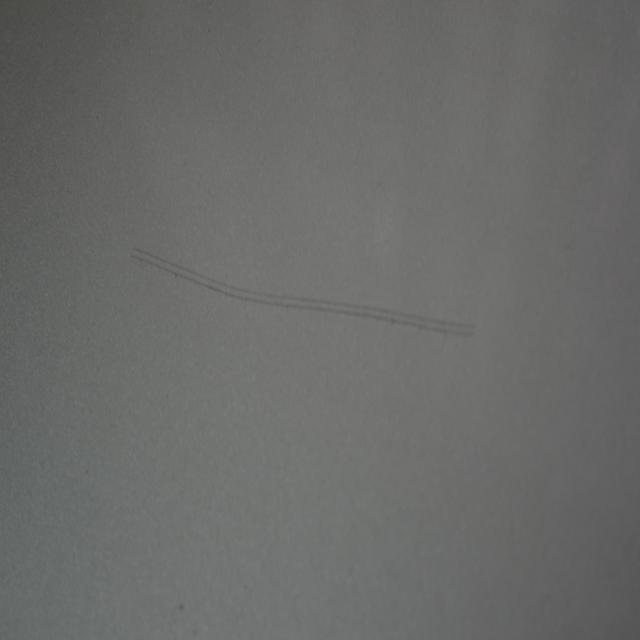scratch: (129, 237, 474, 351)
